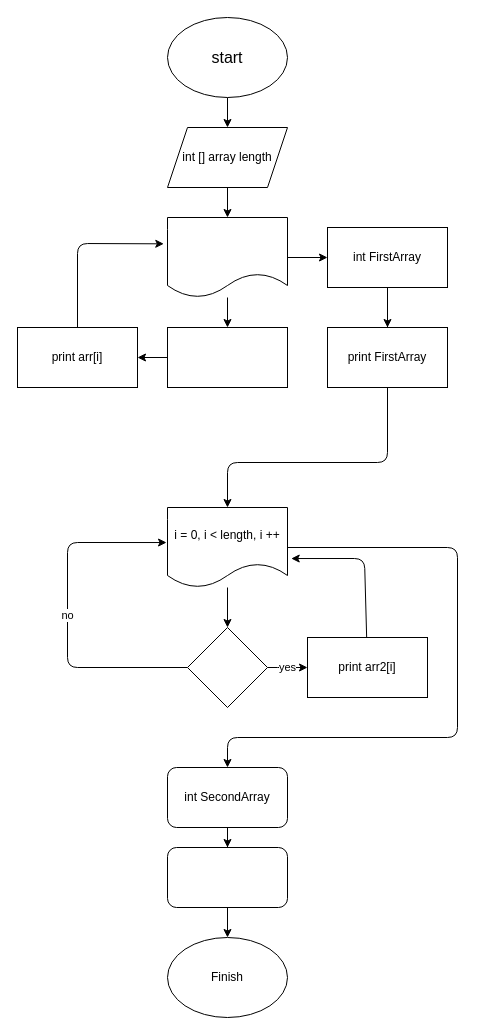
Some shapes in this 483 by 1035 pixel diagram are drawn without their labels. Each missing label, with the box of its shape:
arr [i] = Random: (166, 326, 288, 388)
arr2[i] > 8: (186, 626, 268, 708)
i =0, i < length , i++: (166, 216, 288, 298)
print SecondArray: (166, 846, 288, 908)
